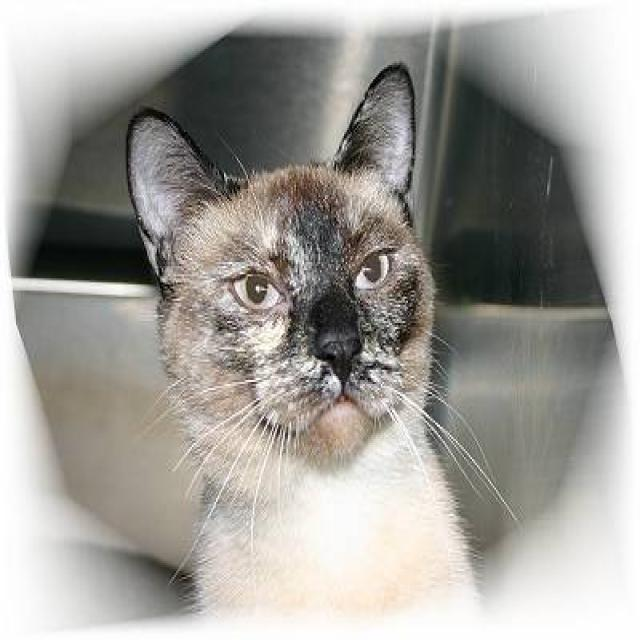cat: (123, 59, 522, 620)
